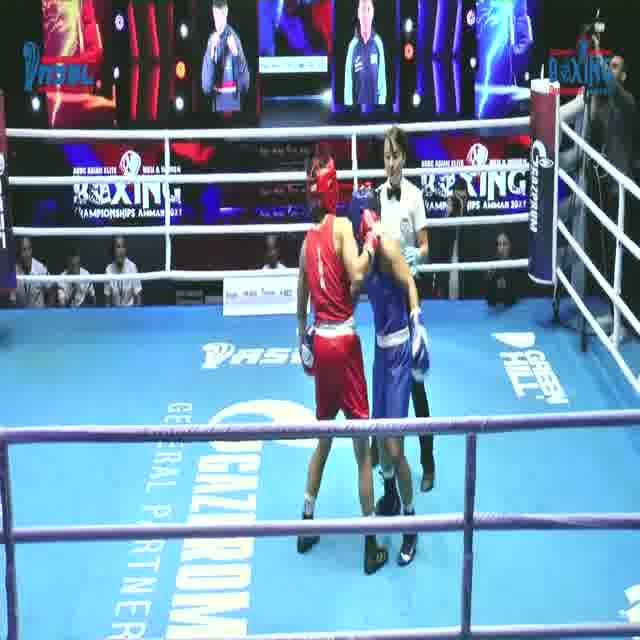blue-player: (302, 184, 430, 568)
red-player: (294, 149, 390, 578)
referee: (362, 128, 438, 494)
